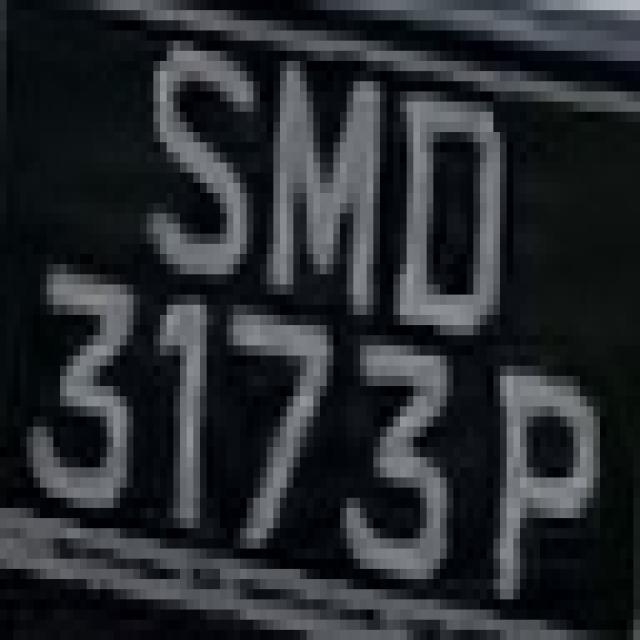1: (140, 274, 213, 549)
3: (13, 213, 134, 559), (333, 305, 440, 589)
7: (227, 284, 340, 569)
D: (380, 81, 507, 325)
M: (254, 41, 394, 346)
P: (473, 335, 600, 620)
S: (127, 30, 253, 305)
